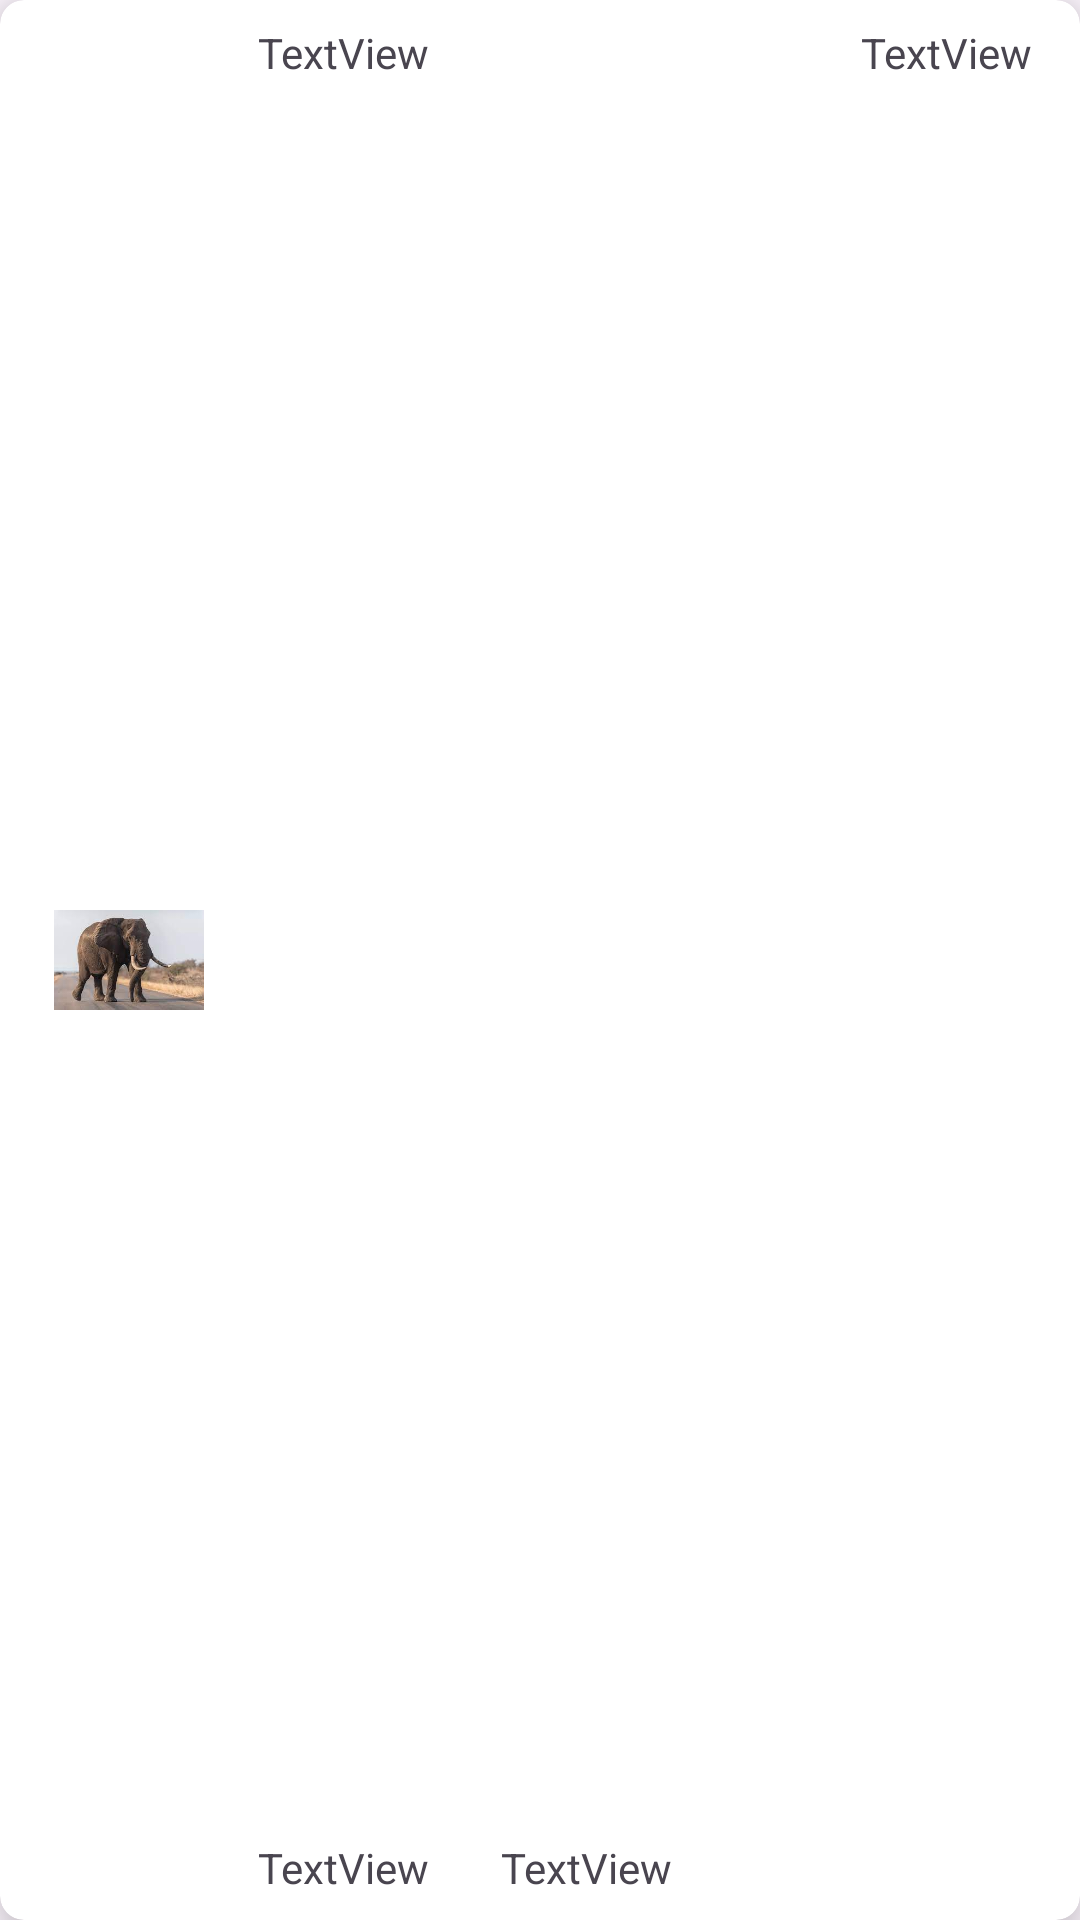

Where icons sit on this 1080px×1920px app screen, as BBox(x1, y1, x2, y2):
gajah: BBox(54, 910, 204, 1010)
